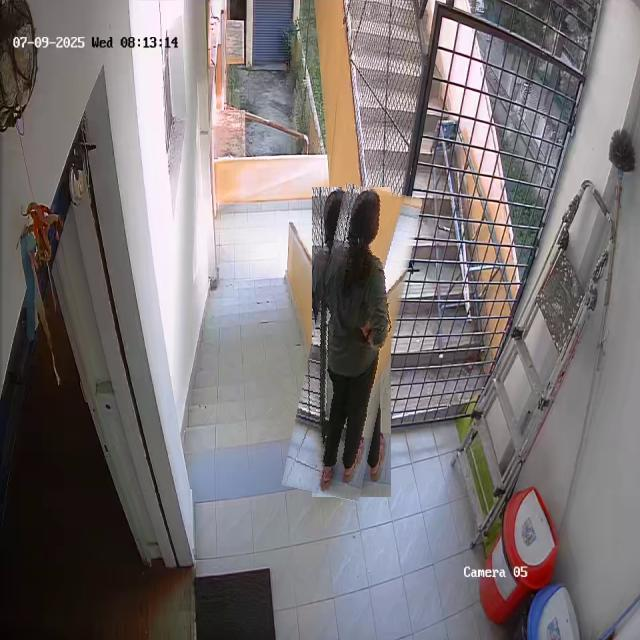person: (296, 185, 407, 500)
